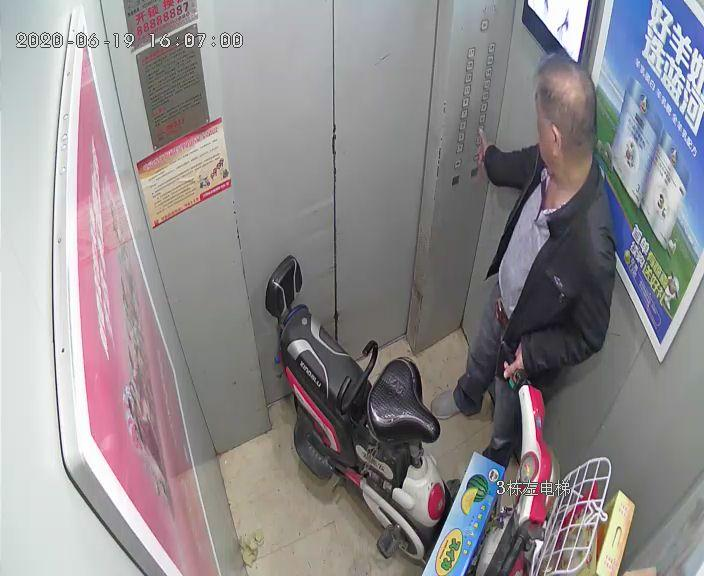Electric-bicycle: (265, 265, 623, 570)
